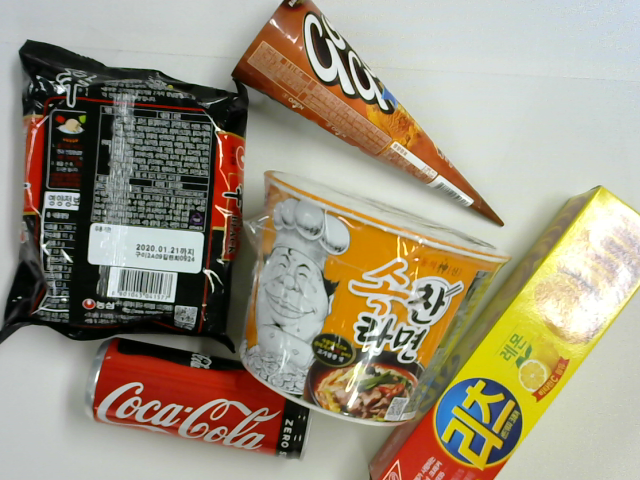Coca_Cola_Zero_Can_250ml: (86, 337, 307, 460)
GooGoo_Cone_CVS: (238, 1, 505, 229)
Hejangchan: (237, 166, 505, 429)
Ritz_Remon_96g: (366, 186, 640, 476)
Sinramen_Black: (4, 38, 247, 357)
